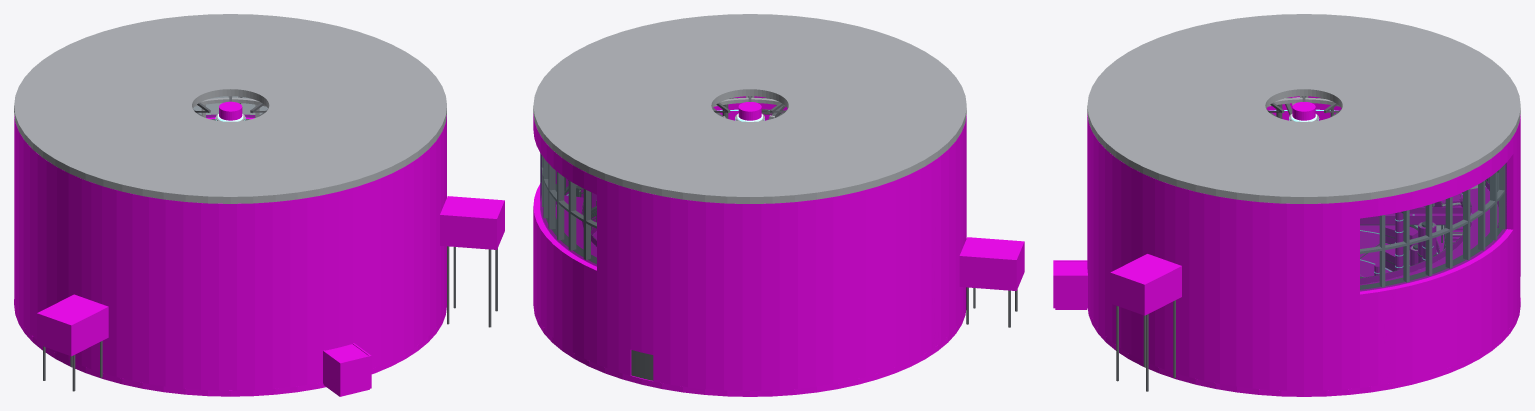
Rendered from level2-hub.glb.
3 views of the same model, side by side, from view 1: azimuth 30°, elevation 25°; view 2: azimuth 150°, elevation 25°; view 3: azimuth 270°, elevation 25° (orthographic).
Visible parts, largest first — view 1: COL_Static, Hub_Ceiling, Hub_Pod_C, Hub_Trusses, GLASS_Window; view 2: COL_Static, Hub_Ceiling, GLASS_Window, Hub_Mullions, DOOR_A, Hub_Trusses; view 3: COL_Static, Hub_Ceiling, GLASS_Window, Hub_Mullions, Hub_Pod_C, Hub_Trusses.
Boxes of the visible parts, x1=… form: COL_Static: x1=14, y1=101, x2=504, y2=396; Hub_Ceiling: x1=14, y1=14, x2=446, y2=203; Hub_Pod_C: x1=447, y1=246, x2=497, y2=327; Hub_Trusses: x1=193, y1=96, x2=267, y2=117; GLASS_Window: x1=193, y1=96, x2=267, y2=117; COL_Static: x1=533, y1=96, x2=1024, y2=396; Hub_Ceiling: x1=533, y1=14, x2=966, y2=203; GLASS_Window: x1=540, y1=153, x2=596, y2=266; Hub_Mullions: x1=541, y1=156, x2=596, y2=263; DOOR_A: x1=631, y1=350, x2=653, y2=380; Hub_Trusses: x1=712, y1=96, x2=787, y2=117; COL_Static: x1=1053, y1=96, x2=1520, y2=396; Hub_Ceiling: x1=1087, y1=14, x2=1520, y2=203; GLASS_Window: x1=1360, y1=163, x2=1506, y2=291; Hub_Mullions: x1=1360, y1=164, x2=1505, y2=289; Hub_Pod_C: x1=1116, y1=300, x2=1175, y2=391; Hub_Trusses: x1=1266, y1=96, x2=1403, y2=212.
Size of the model in its own units: 76.11 by 34.2 by 72.5.
